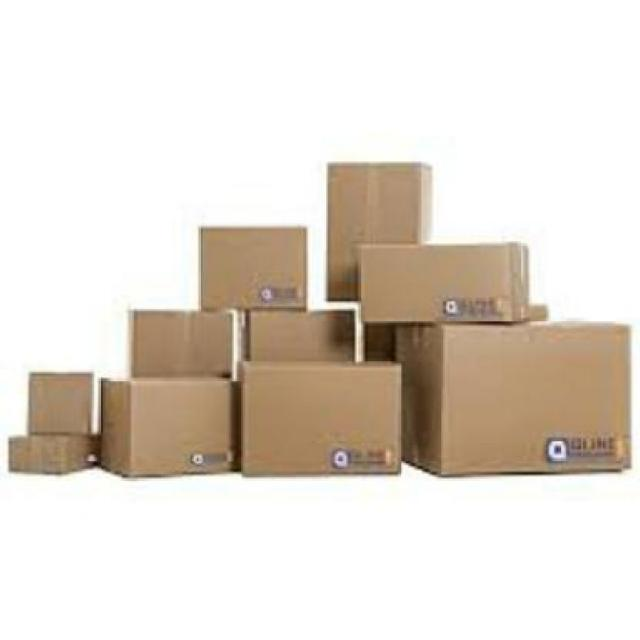box: (395, 320, 630, 476), (235, 356, 401, 470), (328, 160, 430, 304), (362, 242, 532, 324), (100, 376, 240, 475), (197, 222, 300, 311), (128, 309, 234, 375), (236, 310, 354, 360), (27, 368, 96, 433), (4, 431, 97, 473)
